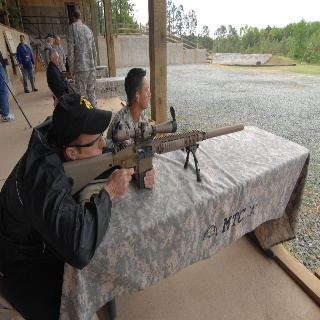rifle: (58, 105, 247, 195)
